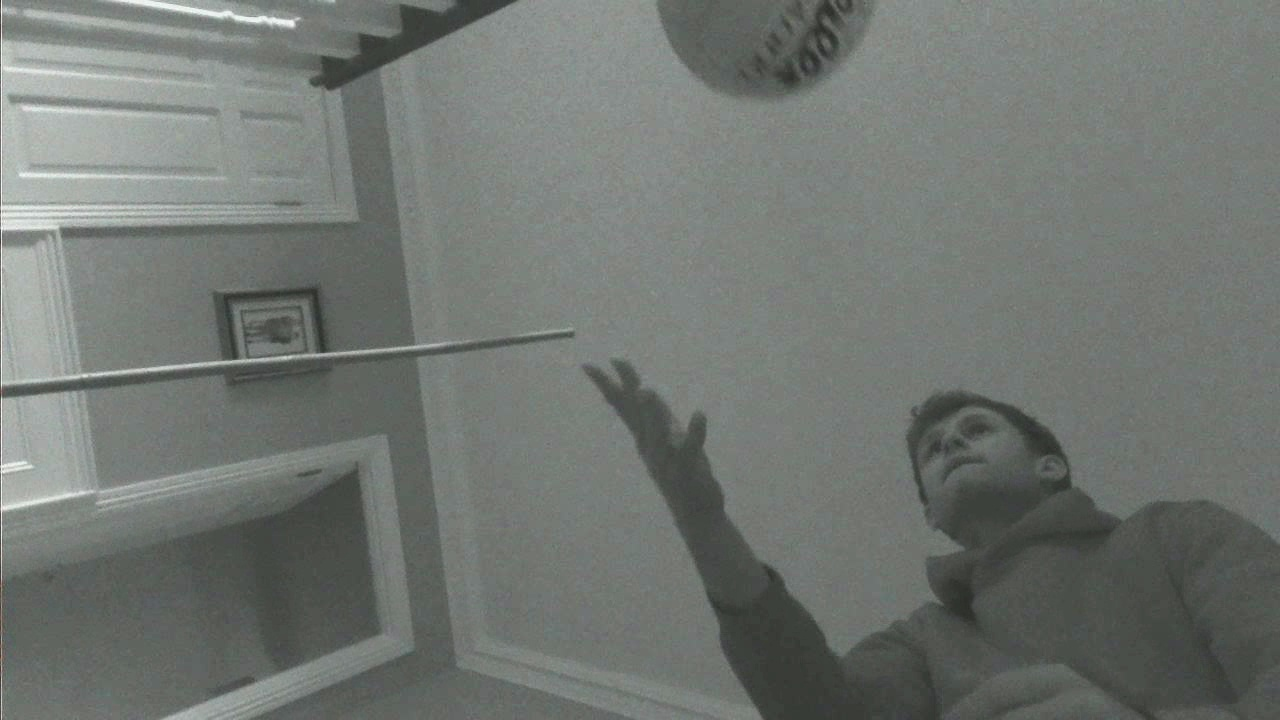Football-Spotter: (657, 0, 873, 98)
